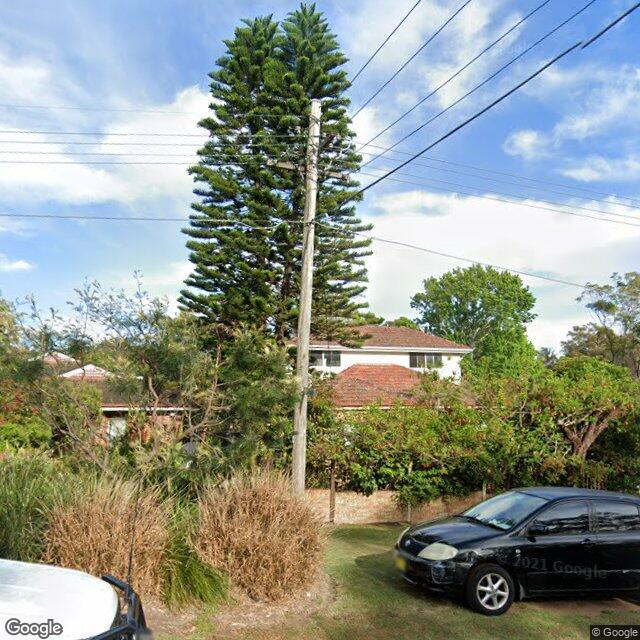crossarm: (266, 158, 348, 181), (318, 132, 336, 154)
timber-pole: (288, 97, 324, 488)
